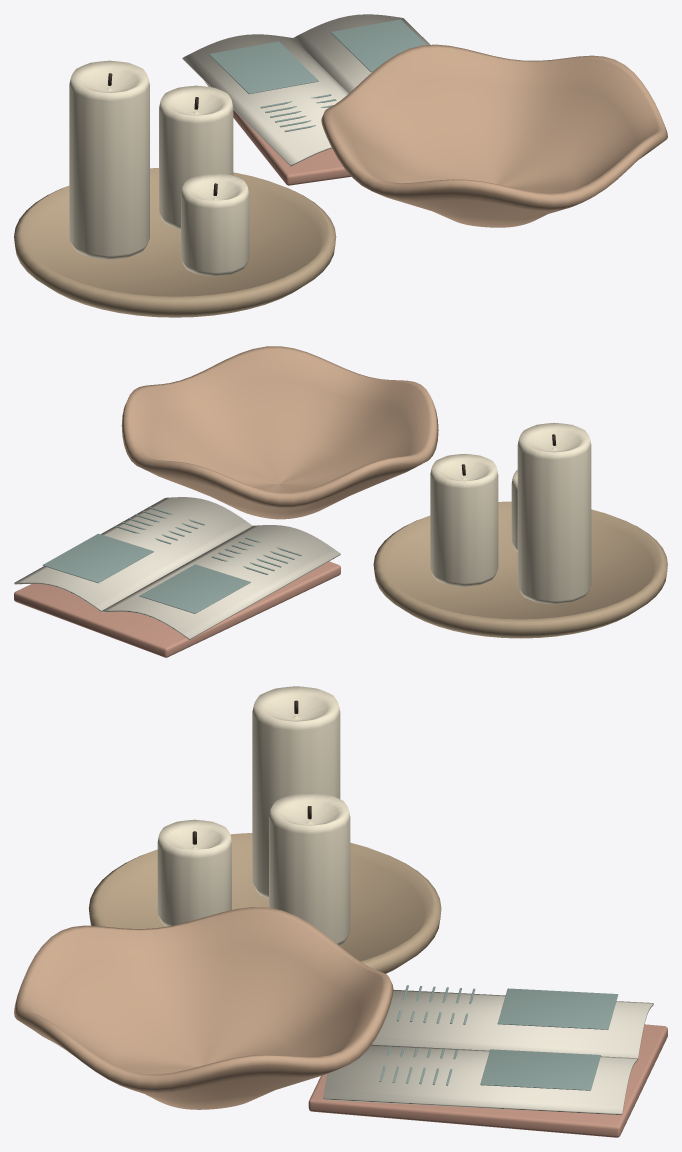
File: arr_coffee_table.glb
3 views of the same model, one above another, from view 1: azimuth 30°, elevation 25°; view 2: azimuth 150°, elevation 25°; view 3: azimuth 270°, elevation 25° (orthographic). The views are drawn at different scales.
Visible parts, largest first — view 1: arr_coffee_table__decor_bowl_body, arr_coffee_table__candle_tray_wax, arr_coffee_table__candle_tray_body, arr_coffee_table__magazine_paper, arr_coffee_table__magazine_print, arr_coffee_table__magazine_body; view 2: arr_coffee_table__decor_bowl_body, arr_coffee_table__candle_tray_wax, arr_coffee_table__candle_tray_body, arr_coffee_table__magazine_paper, arr_coffee_table__magazine_body, arr_coffee_table__magazine_print; view 3: arr_coffee_table__decor_bowl_body, arr_coffee_table__candle_tray_wax, arr_coffee_table__magazine_paper, arr_coffee_table__candle_tray_body, arr_coffee_table__magazine_print, arr_coffee_table__magazine_body.
Boxes of the visible parts, x1=… form: arr_coffee_table__decor_bowl_body: x1=321, y1=44, x2=667, y2=227; arr_coffee_table__candle_tray_wax: x1=69, y1=60, x2=249, y2=276; arr_coffee_table__candle_tray_body: x1=14, y1=168, x2=336, y2=317; arr_coffee_table__magazine_paper: x1=182, y1=14, x2=430, y2=166; arr_coffee_table__magazine_print: x1=209, y1=19, x2=426, y2=131; arr_coffee_table__magazine_body: x1=204, y1=81, x2=351, y2=185; arr_coffee_table__decor_bowl_body: x1=121, y1=346, x2=438, y2=519; arr_coffee_table__candle_tray_wax: x1=430, y1=422, x2=591, y2=604; arr_coffee_table__candle_tray_body: x1=373, y1=501, x2=667, y2=638; arr_coffee_table__magazine_paper: x1=14, y1=497, x2=340, y2=639; arr_coffee_table__magazine_body: x1=14, y1=561, x2=340, y2=657; arr_coffee_table__magazine_print: x1=42, y1=506, x2=301, y2=613; arr_coffee_table__decor_bowl_body: x1=14, y1=907, x2=393, y2=1109; arr_coffee_table__candle_tray_wax: x1=157, y1=686, x2=350, y2=945; arr_coffee_table__magazine_paper: x1=323, y1=989, x2=653, y2=1114; arr_coffee_table__candle_tray_body: x1=88, y1=833, x2=441, y2=973; arr_coffee_table__magazine_print: x1=379, y1=985, x2=618, y2=1090; arr_coffee_table__magazine_body: x1=308, y1=1024, x2=667, y2=1137.
Size of the model in its own units: 0.658 by 0.1981 by 0.5859.
